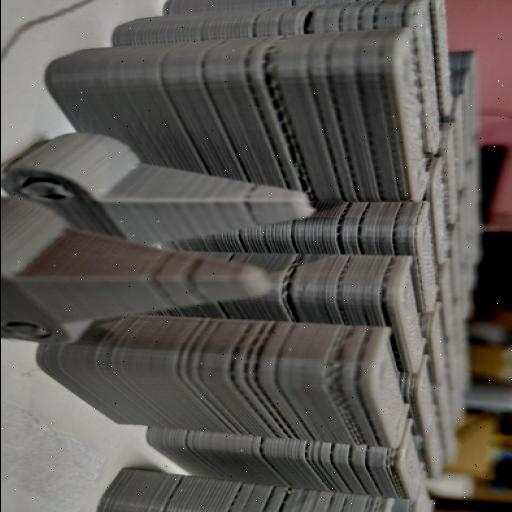cracks: (258, 36, 304, 176), (222, 342, 276, 438), (267, 254, 318, 318)
